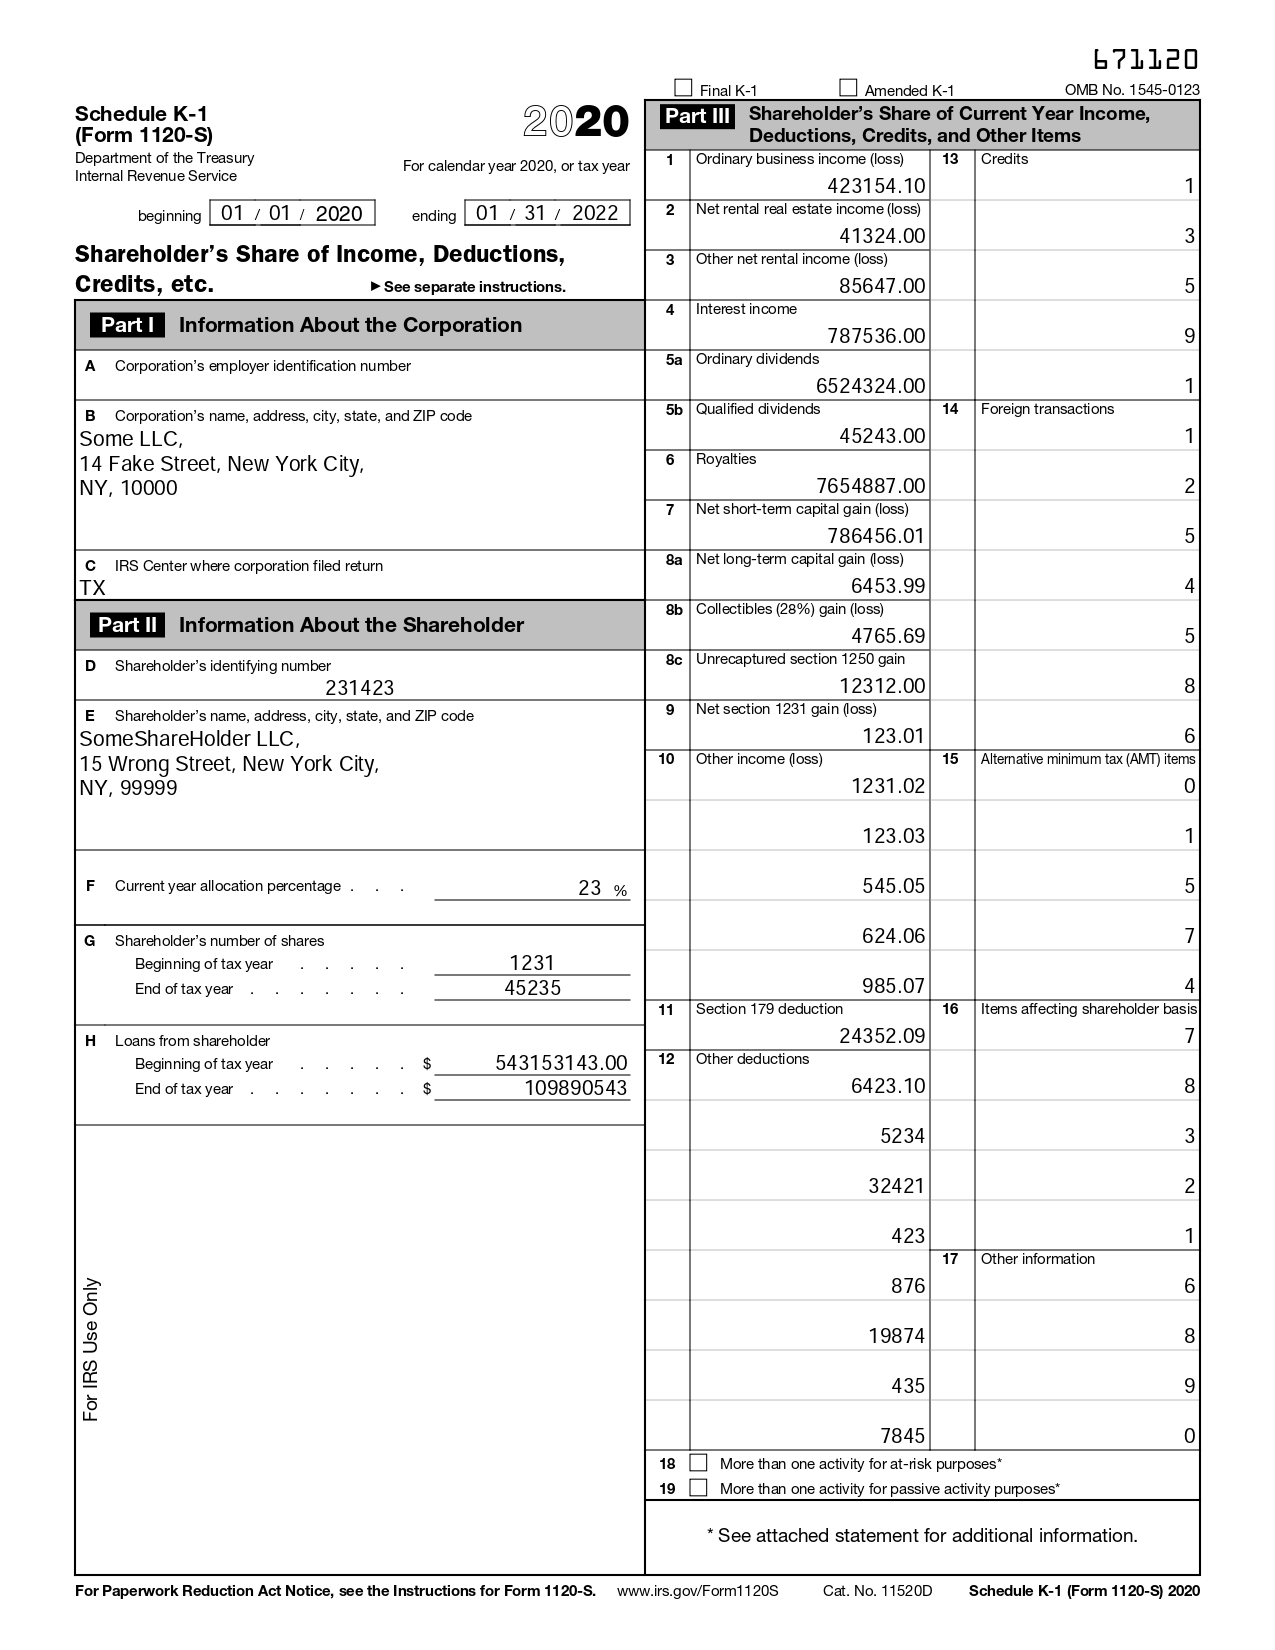form: (71, 296, 644, 1121)
table: (642, 96, 1207, 1450)
